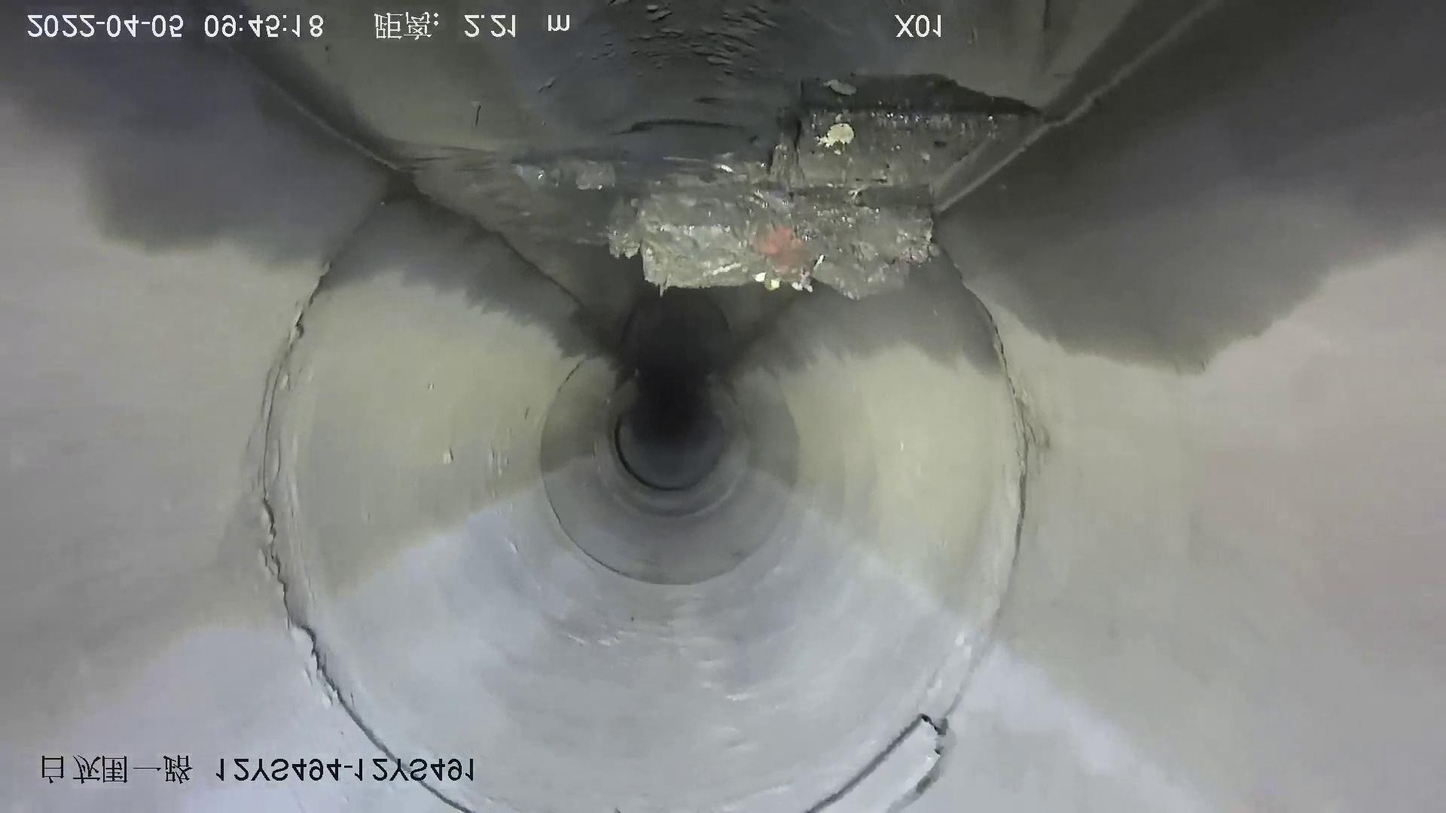ZAW: (607, 103, 1039, 298)
